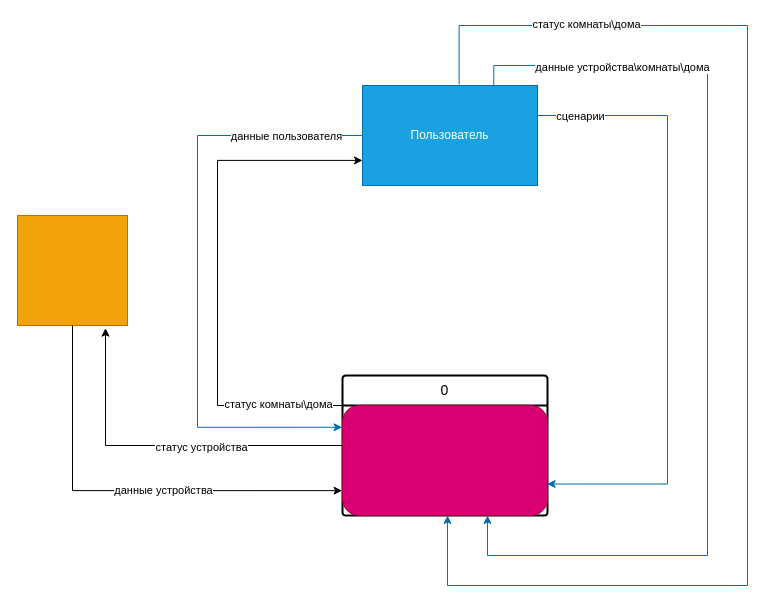
Some shapes in this 773 by 611 pixel diagram are drawn without their labels. The shapes that lost their labels are listed below. From the top down, each one's centre as x and y in pixels, then its label:
point 72,270: УСТРОЙСТВО
point 445,460: Приложение Stets Home
